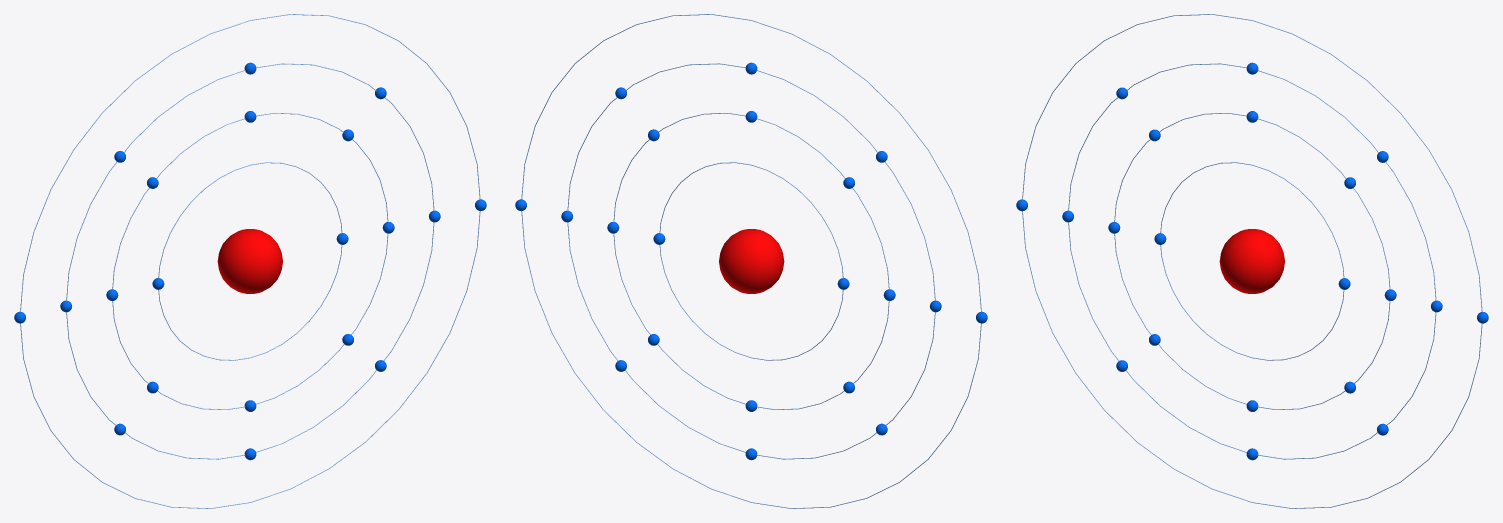
The picture shows the model from 3 angles, left to right: view 1: azimuth 30°, elevation 25°; view 2: azimuth 150°, elevation 25°; view 3: azimuth 330°, elevation 25°; orthographic projection.
Visible parts, largest first — view 1: 구, 도넛_2, 도넛_2_2, 도넛_1, 도넛; view 2: 구, 도넛_2, 도넛_2_2, 도넛_1, 도넛; view 3: 구, 도넛_2, 도넛_2_2, 도넛_1, 도넛.
Part boxes in pixels (<box>): 구: <box>217,229,282,293</box>; 도넛_2: <box>20,14,480,508</box>; 도넛_2_2: <box>66,63,434,459</box>; 도넛_1: <box>112,113,388,409</box>; 도넛: <box>158,162,342,360</box>; 구: <box>719,229,784,293</box>; 도넛_2: <box>521,14,981,508</box>; 도넛_2_2: <box>567,63,935,459</box>; 도넛_1: <box>613,113,889,409</box>; 도넛: <box>659,162,843,360</box>; 구: <box>1219,229,1284,293</box>; 도넛_2: <box>1022,14,1482,508</box>; 도넛_2_2: <box>1068,63,1436,459</box>; 도넛_1: <box>1114,113,1390,409</box>; 도넛: <box>1160,162,1344,360</box>.
Bounding box in the file's own units: 409 × 401 × 49.18.
